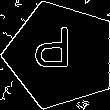P_S: (42, 30, 80, 80)
